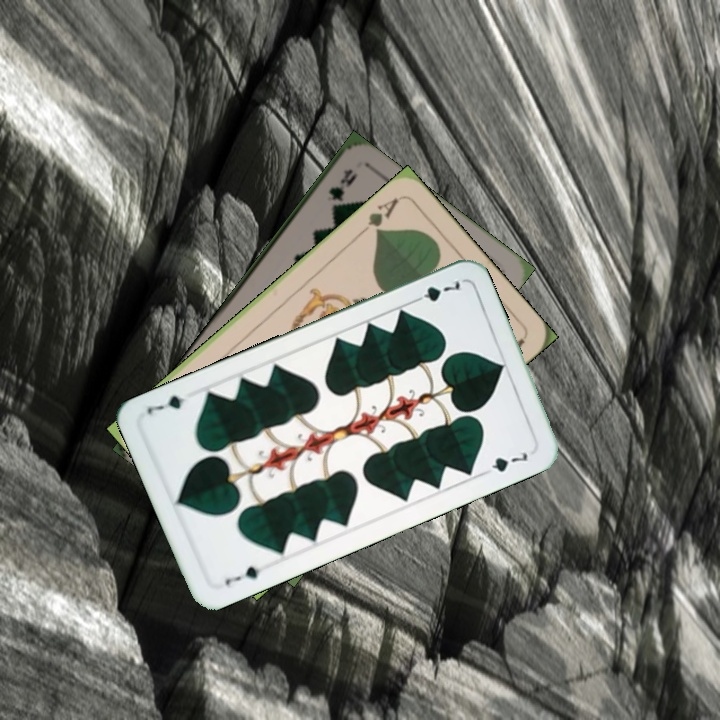G7: (408, 273, 463, 306), (221, 562, 263, 588)
G9: (324, 164, 361, 203)
GA: (355, 193, 401, 238)
